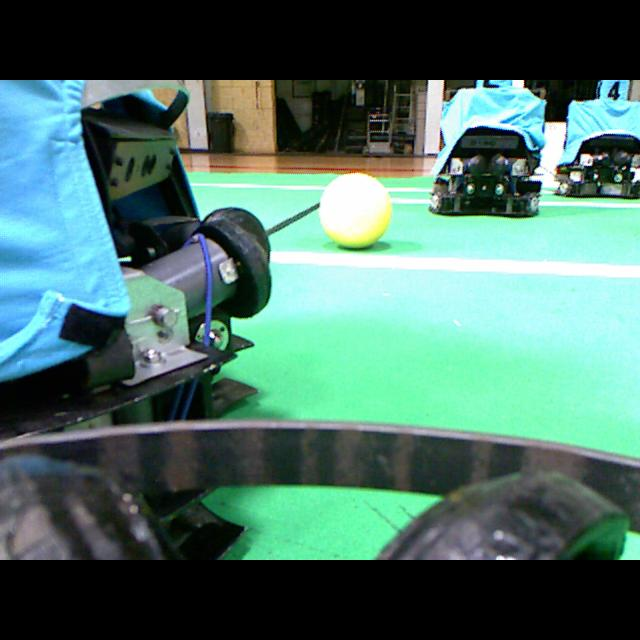ball: (319, 173, 391, 247)
